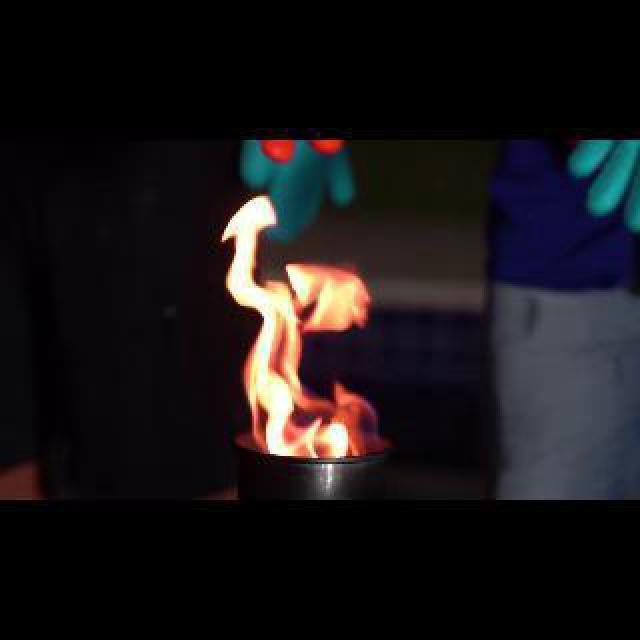Fire: (218, 178, 382, 466)
